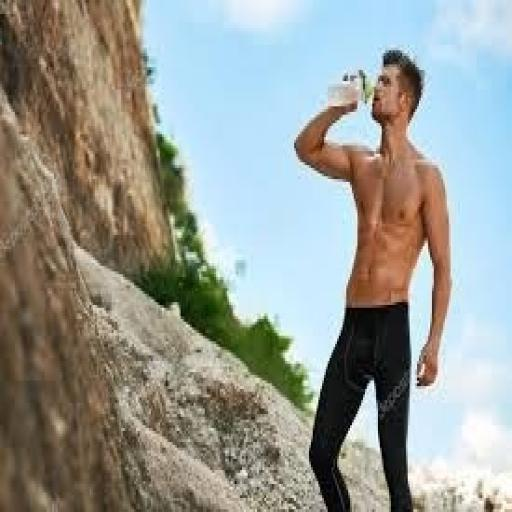drinking: (267, 50, 465, 318)
